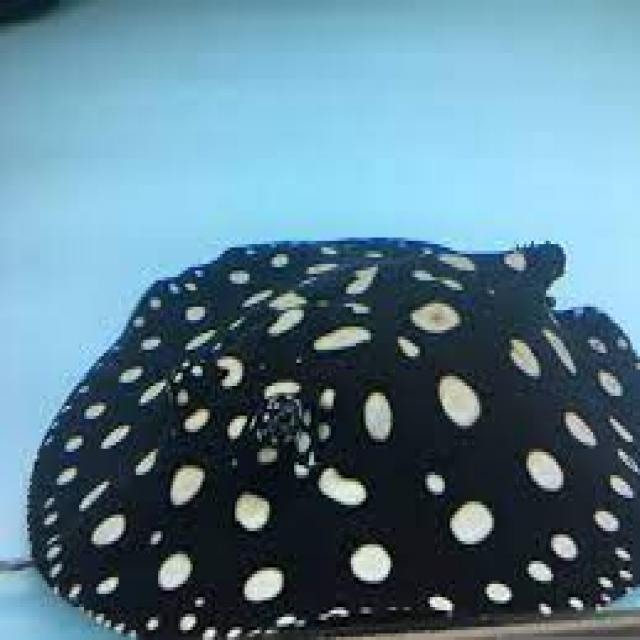black-diamond-sting-ray: (26, 129, 640, 640)
